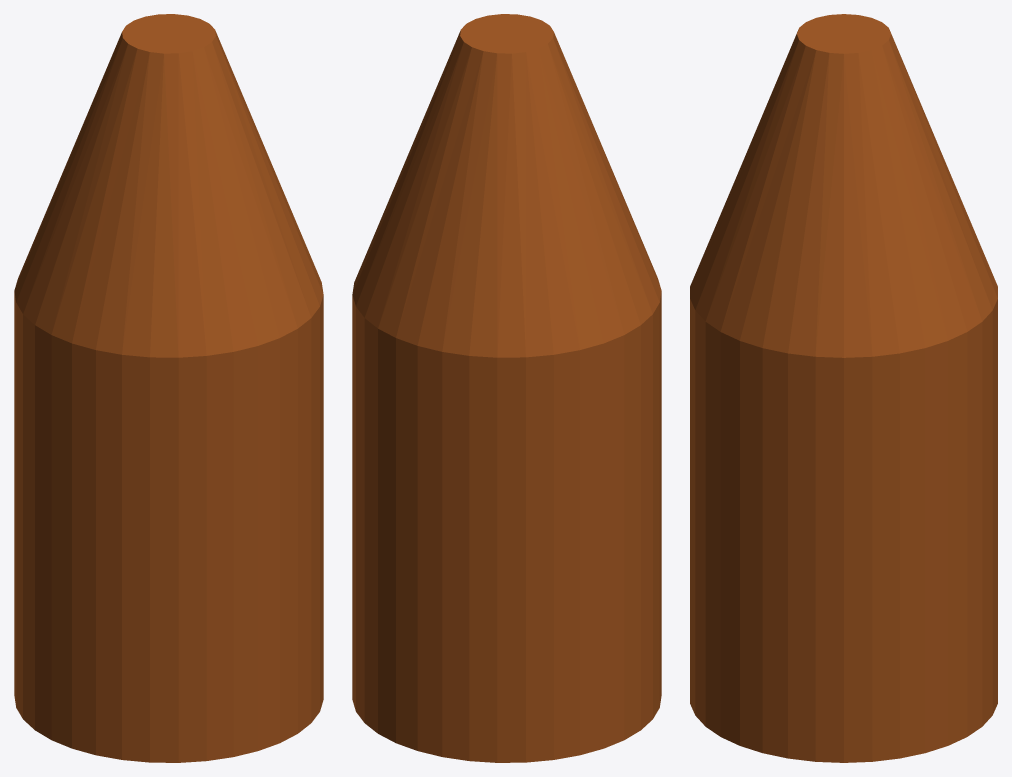
File: Falcon 9 Rocket CU.dae
3 renders of one model, left to right at view 1: azimuth 30°, elevation 25°; view 2: azimuth 150°, elevation 25°; view 3: azimuth 270°, elevation 25°, orthographic.
Visible parts, largest first — view 1: Payload_1; view 2: Payload_1; view 3: Payload_1.
Boxes of the visible parts, <box> form: Payload_1: <box>14,14,323,762</box>; Payload_1: <box>352,14,661,762</box>; Payload_1: <box>690,14,997,762</box>.
Bounding box in the file's own units: 180 × 179 × 426.
